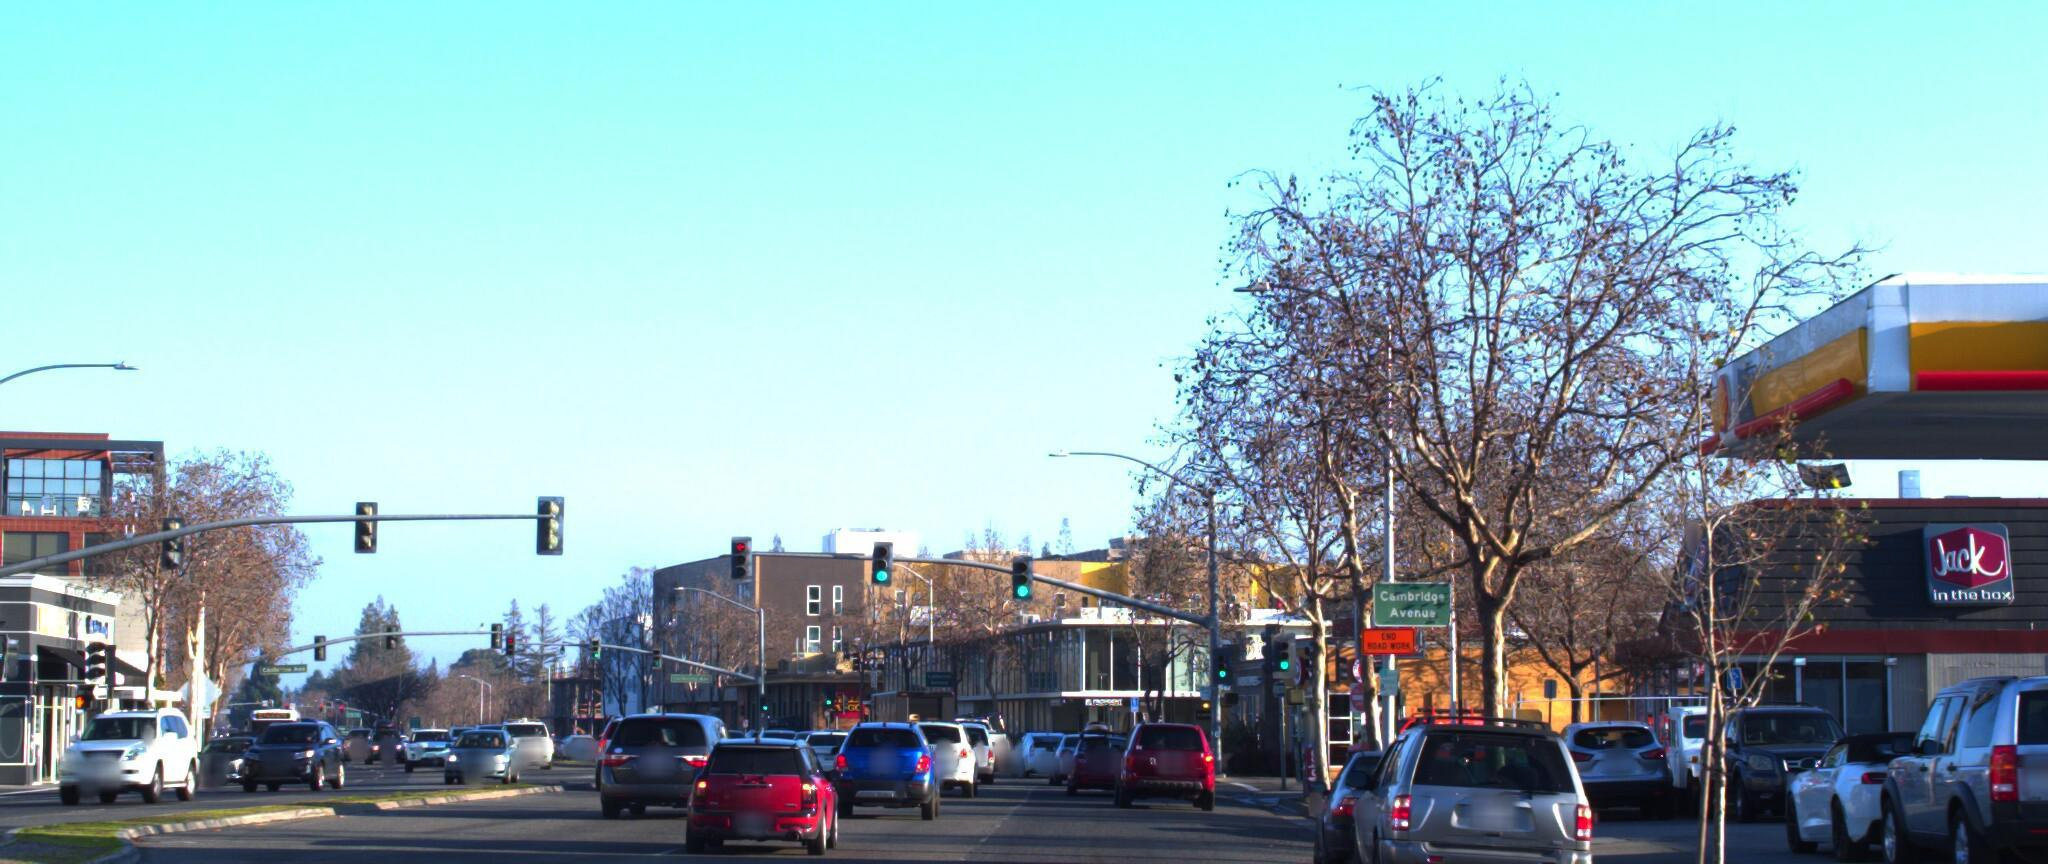car: (1327, 697, 1618, 864), (1839, 656, 2048, 864), (1752, 710, 2047, 854), (1297, 727, 1506, 864), (1676, 683, 1874, 809), (667, 713, 844, 855), (593, 687, 764, 812), (61, 679, 226, 786), (1509, 700, 1677, 801), (825, 703, 940, 804), (235, 692, 349, 771), (910, 715, 1010, 801), (1112, 711, 1215, 794), (1055, 706, 1145, 788)
